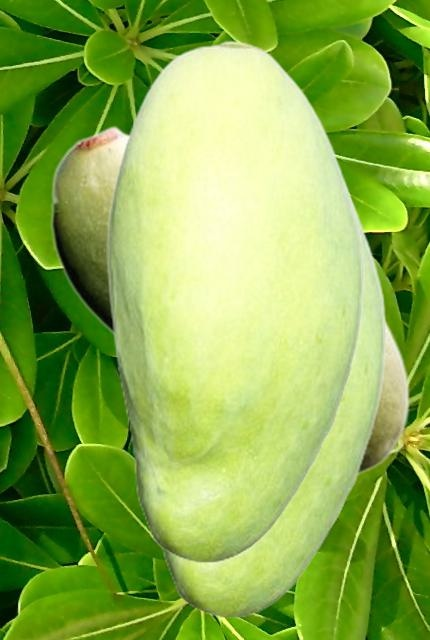green_mango: (106, 40, 363, 562), (50, 124, 409, 476), (158, 176, 385, 617)
